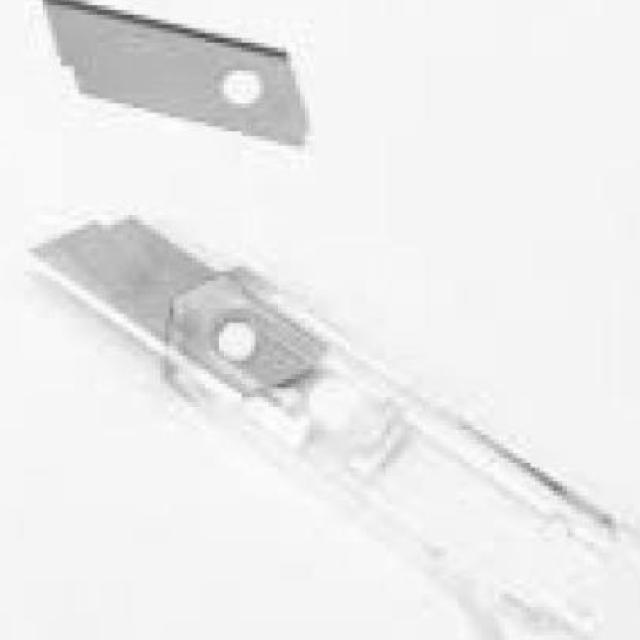estilete: (30, 218, 640, 640)
